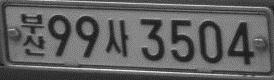0: (197, 19, 223, 63)
3: (139, 18, 164, 61)
4: (226, 21, 254, 64)
5: (170, 19, 195, 62)
9: (74, 14, 99, 58), (46, 13, 71, 56)
부산_V: (20, 12, 45, 56)
사: (104, 19, 129, 57)
